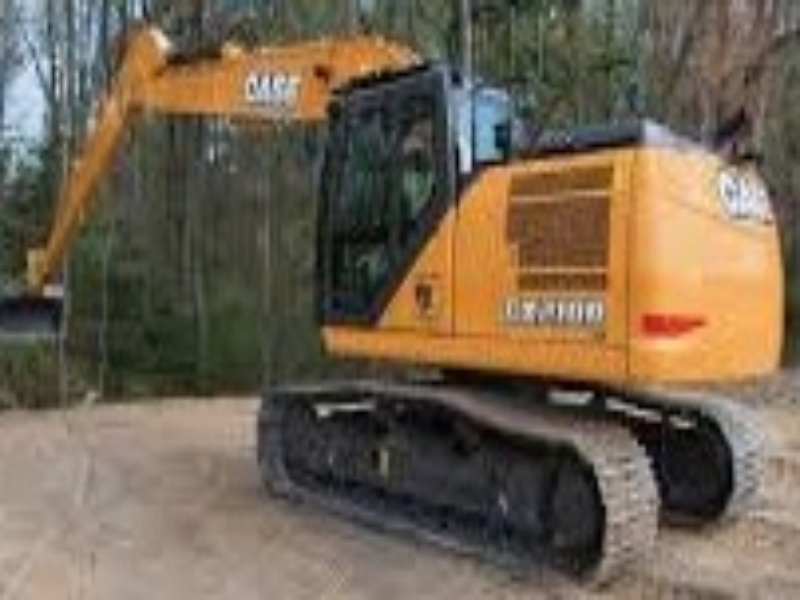wajueji: (184, 34, 794, 597)
